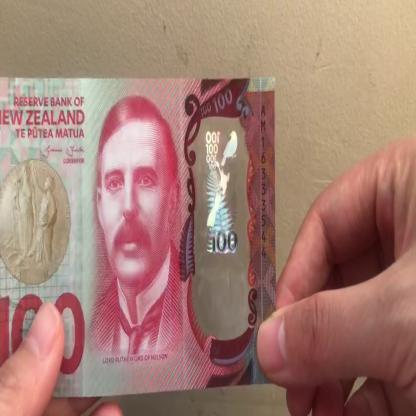100F: (202, 123, 243, 314)
